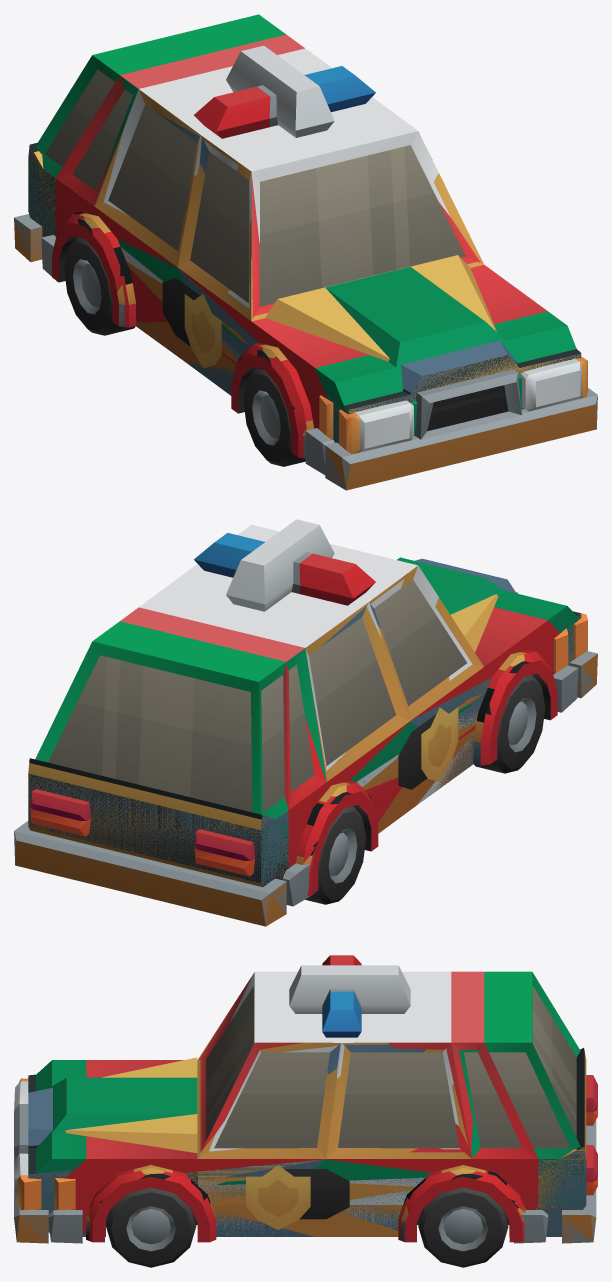
The model's file is kaykit-cars.glb.
3 renders of one model, top to bottom at view 1: azimuth 30°, elevation 25°; view 2: azimuth 150°, elevation 25°; view 3: azimuth 270°, elevation 25°, orthographic. The views are drawn at different scales.
Parts seen in each view (by area): view 1: Cube.1022, Cube.1023, Cube.13730, Cube.13728, Cube.13729, car_sedan_wheel_rear_right, car_sedan_wheel_front_right; view 2: Cube.1023, Cube.13728, Cube.1022, Cube.13729, Cube.13730, car_sedan_wheel_front_right, car_sedan_wheel_rear_right; view 3: Cube.1023, Cube.13730, Cube.13728, Cube.1022, Cube.13729, car_hatchback_wheel_rear_left, car_hatchback_wheel_front_left.
Boxes of the visible parts, x1,y1,x2,y2 form: Cube.1022: (16,48,597,489); Cube.1023: (14,45,597,490); Cube.13730: (41,34,547,474); Cube.13728: (28,14,576,443); Cube.13729: (14,113,597,489); car_sedan_wheel_rear_right: (64,237,135,335); car_sedan_wheel_front_right: (243,368,305,466); Cube.1023: (14,519,597,926); Cube.13728: (35,557,579,882); Cube.1022: (14,525,590,925); Cube.13729: (14,558,597,923); Cube.13730: (120,607,578,906); car_sedan_wheel_front_right: (474,675,545,773); car_sedan_wheel_rear_right: (307,806,365,904); Cube.1023: (14,965,597,1243); Cube.13730: (48,971,548,1243); Cube.13728: (27,971,585,1232); Cube.1022: (14,955,597,1243); Cube.13729: (14,1042,597,1243); car_hatchback_wheel_rear_left: (418,1187,508,1267); car_hatchback_wheel_front_left: (106,1187,196,1267).
Bounding box in the file's own units: 0.4189 × 0.4345 × 0.9381.
Materials: 1 (1 with a texture image).
